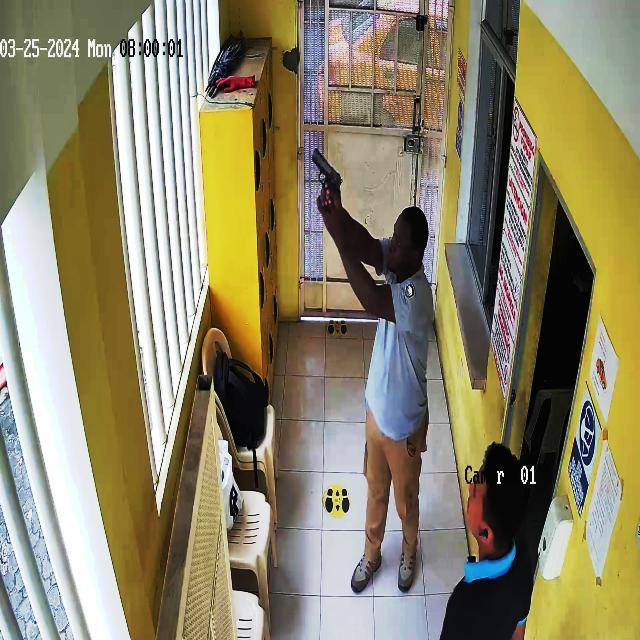Gun: (312, 138, 348, 215)
